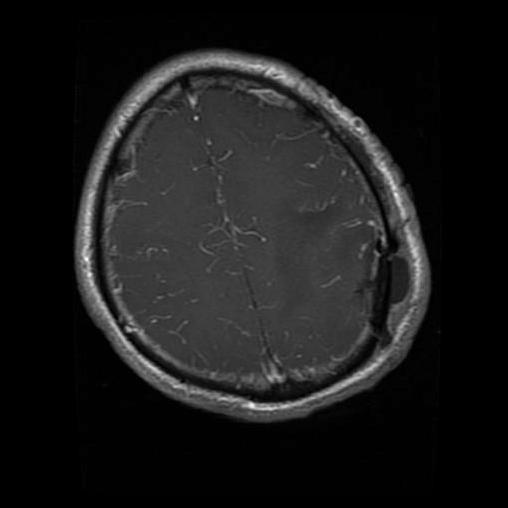Tumour-Glioma: (348, 228, 417, 344)
